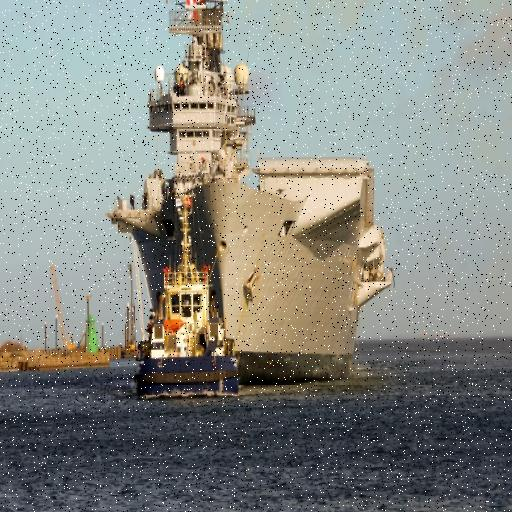Portanaves: (108, 1, 406, 391)
